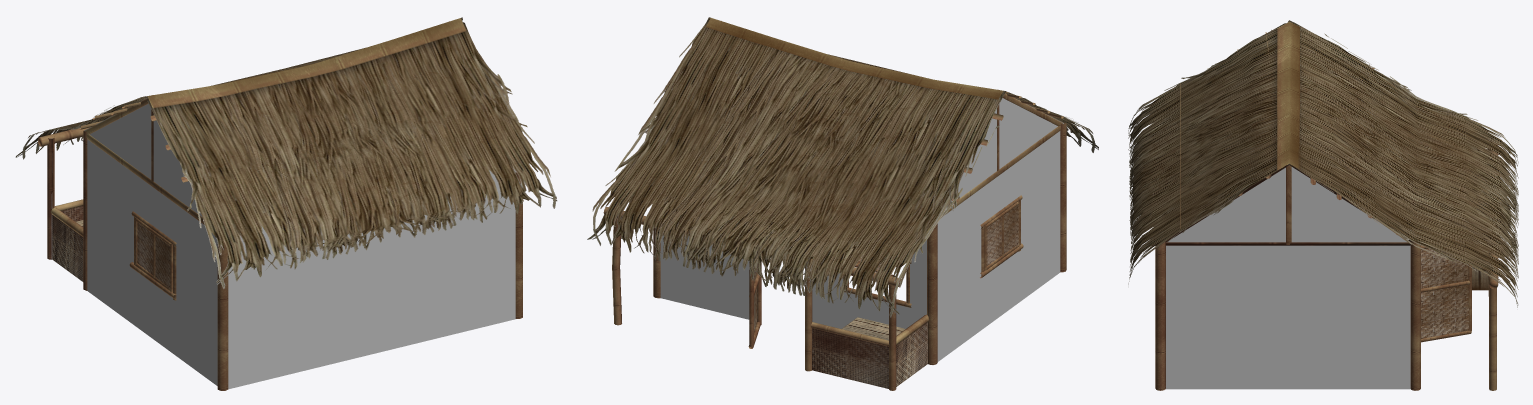
File: Rahh gubuk.fbx
3 views of the same model, side by side, from view 1: azimuth 30°, elevation 25°; view 2: azimuth 150°, elevation 25°; view 3: azimuth 270°, elevation 25° (orthographic). The views are drawn at different scales.
Parts seen in each view (by area): view 1: atap_nbambo, dinding3; view 2: atap_nbambo, dinding3; view 3: atap_nbambo, dinding3.
Part boxes in pixels (x1,y1,x2,y2): atap_nbambo: [15, 17, 557, 390]; dinding3: [84, 98, 515, 389]; atap_nbambo: [587, 17, 1098, 390]; dinding3: [660, 98, 1063, 361]; atap_nbambo: [1128, 20, 1518, 390]; dinding3: [1166, 167, 1410, 389].
Size of the model in its own units: 49.38 by 34.32 by 51.86.
